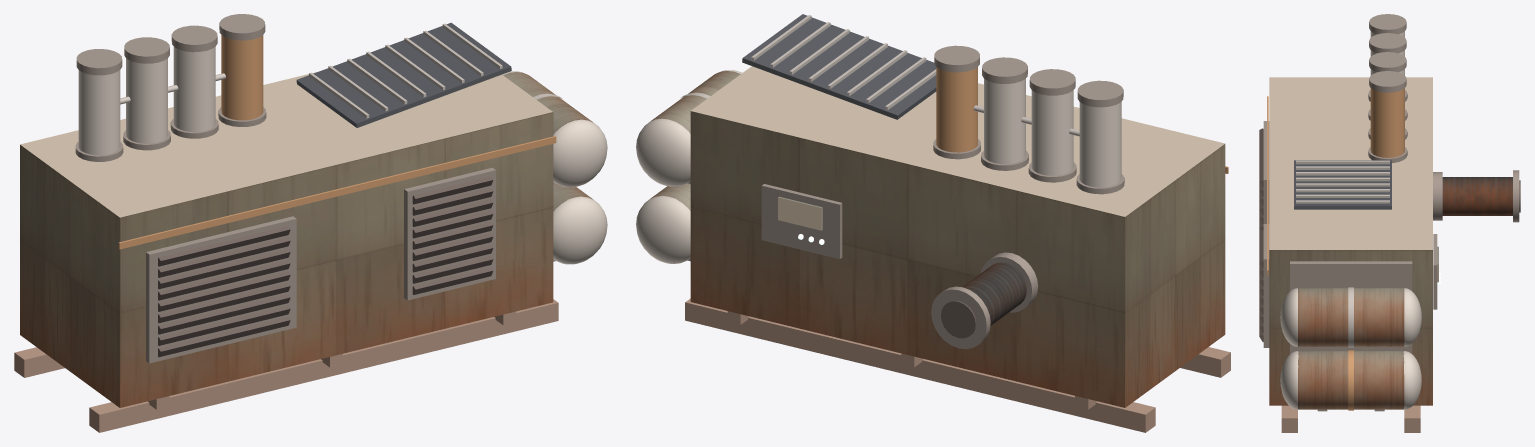
Rendered from E16_life_support_module.glb.
3 renders of one model, left to right at view 1: azimuth 30°, elevation 25°; view 2: azimuth 150°, elevation 25°; view 3: azimuth 270°, elevation 25°, orthographic. The views are drawn at different scales.
Visible parts, largest first — view 1: housing, vent_frame, skid, cartridge_manifold, gas_tank; view 2: housing, vent_frame, skid, cartridge_manifold, habitat_connector_hose, gas_tank, display; view 3: housing, vent_frame, gas_tank, cartridge_manifold, habitat_connector_hose, skid.
Part boxes in pixels (left/top/right/bottom): housing: left=20, top=35, right=607, bottom=407; vent_frame: left=75, top=14, right=555, bottom=363; skid: left=14, top=299, right=558, bottom=432; cartridge_manifold: left=120, top=23, right=562, bottom=118; gas_tank: left=503, top=72, right=592, bottom=211; housing: left=636, top=66, right=1228, bottom=407; vent_frame: left=687, top=14, right=1124, bottom=348; skid: left=685, top=298, right=1230, bottom=432; cartridge_manifold: left=681, top=15, right=1079, bottom=136; habitat_connector_hose: left=962, top=262, right=1026, bottom=325; gas_tank: left=650, top=71, right=740, bottom=210; display: left=778, top=196, right=822, bottom=230; housing: left=1259, top=31, right=1520, bottom=410; vent_frame: left=1263, top=14, right=1519, bottom=411; gas_tank: left=1298, top=288, right=1404, bottom=409; cartridge_manifold: left=1296, top=160, right=1389, bottom=347; habitat_connector_hose: left=1442, top=177, right=1512, bottom=215; skid: left=1281, top=405, right=1420, bottom=432.
Size of the model in its own units: 5.97 by 3.43 by 3.2.
9 materials, 3 textured.
